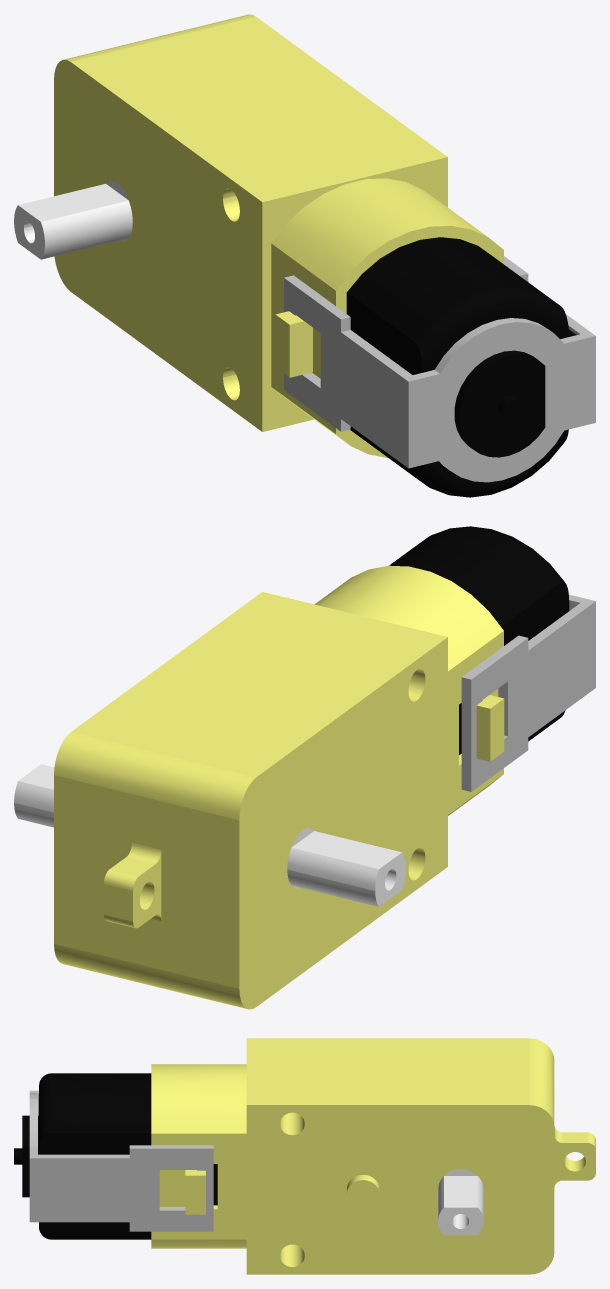
Rendered from fc-dc-tt-straight.glb.
The picture shows the model from 3 angles, top to bottom: view 1: azimuth 30°, elevation 25°; view 2: azimuth 150°, elevation 25°; view 3: azimuth 270°, elevation 25°; orthographic projection. The views are drawn at different scales.
Parts seen in each view (by area): view 1: 1_1_0.25_0, 0_0_0_0, 0.5833333333333334_0.5833333333333334_0.5833333333333334_0.8, 1_1_1_0.85; view 2: 1_1_0.25_0, 0.5833333333333334_0.5833333333333334_0.5833333333333334_0.8, 0_0_0_0, 1_1_1_0.85; view 3: 1_1_0.25_0, 0.5833333333333334_0.5833333333333334_0.5833333333333334_0.8, 0_0_0_0, 1_1_1_0.85.
Part boxes in pixels (x1,y1,x2,y2): 1_1_0.25_0: (54,14,503,458); 0_0_0_0: (346,237,576,497); 0.5833333333333334_0.5833333333333334_0.5833333333333334_0.8: (284,256,595,482); 1_1_1_0.85: (14,181,132,259); 1_1_0.25_0: (54,565,504,1009); 0.5833333333333334_0.5833333333333334_0.5833333333333334_0.8: (461,594,595,791); 0_0_0_0: (389,526,569,754); 1_1_1_0.85: (14,764,405,906); 1_1_0.25_0: (151,1038,595,1274); 0.5833333333333334_0.5833333333333334_0.5833333333333334_0.8: (29,1090,213,1231); 0_0_0_0: (14,1073,217,1239); 1_1_1_0.85: (438,1169,483,1235).
Size of the model in its own units: 3.7 by 2.25 by 7.
